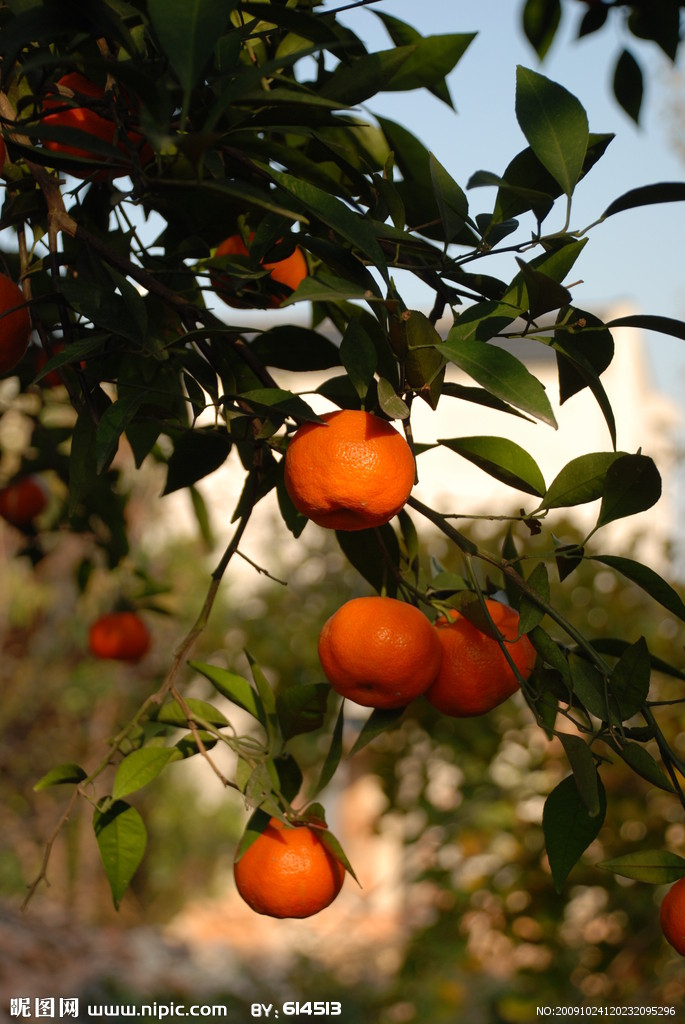orange: (285, 409, 420, 521), (412, 594, 538, 712), (318, 596, 438, 709), (233, 816, 345, 919), (209, 226, 308, 311)
